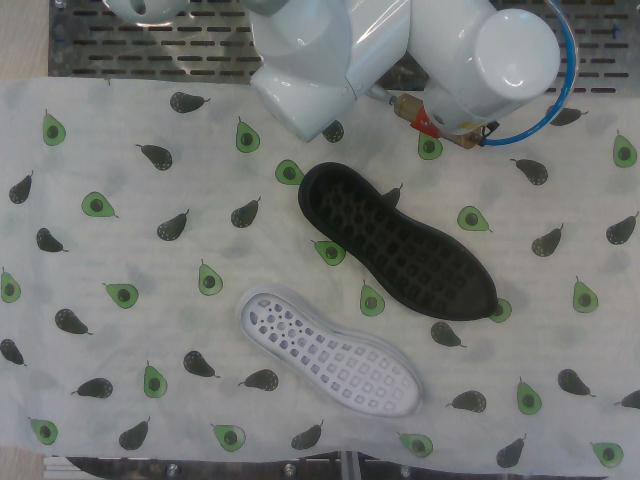shoes: (309, 169, 496, 318), (240, 293, 422, 418)
